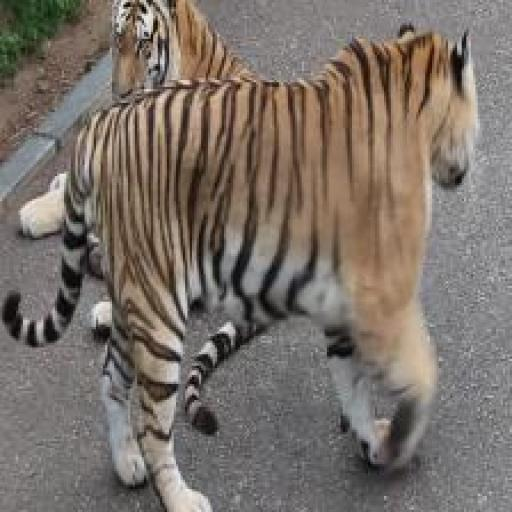Tiger: (5, 30, 505, 484), (103, 7, 257, 129)
